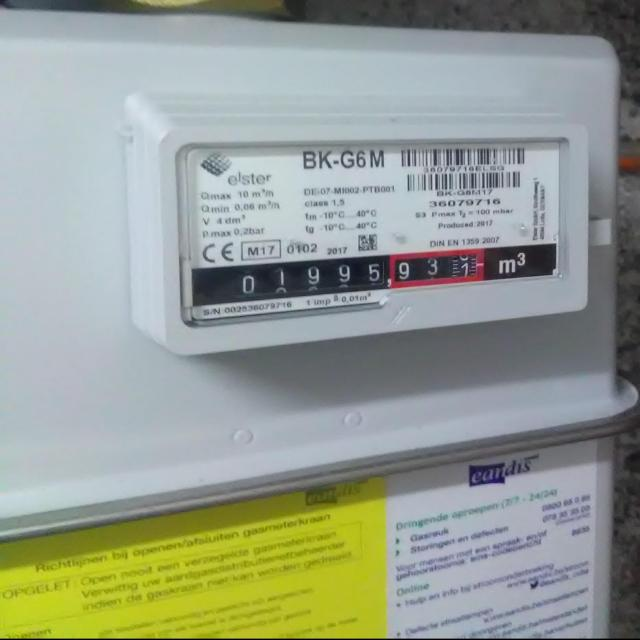gaz_meter: (185, 139, 567, 325)
indication: (227, 250, 482, 302)
